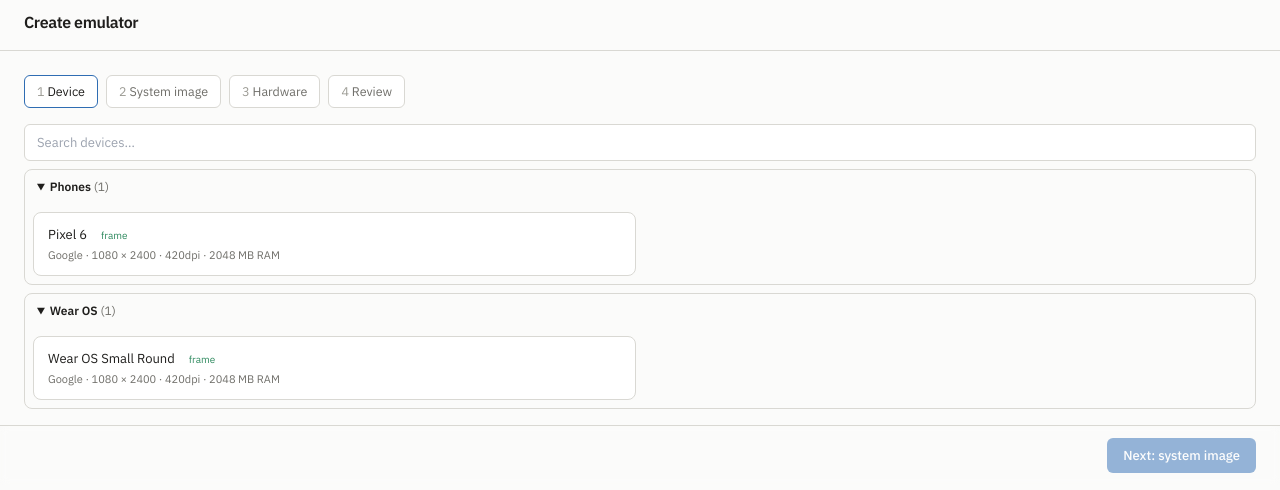
Test case: Create wizard › groups devices by form factor
Expected: the element with test id "device-group-phone" shows "Phones (1)", x1=24 y1=169 x2=1256 y2=285
Expected: the element with test id "device-group-wear" shows "Wear OS (1)", x1=24 y1=293 x2=1256 y2=409
Note: A search narrows a group and drops the others.
Type "wear" into the search field with test id "device-search" at (640, 143), box x1=24 y1=124 x2=1256 y2=161
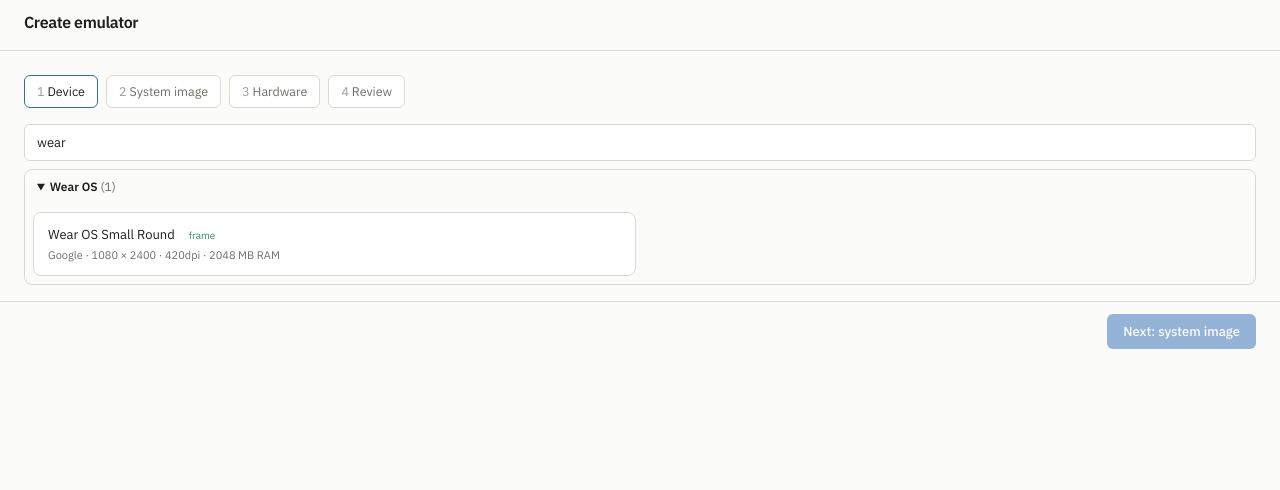
Expected: the button with test id "device-wear_round" is shown, x1=33 y1=212 x2=636 y2=276
Result: the element with test id "device-group-phone" is gone
